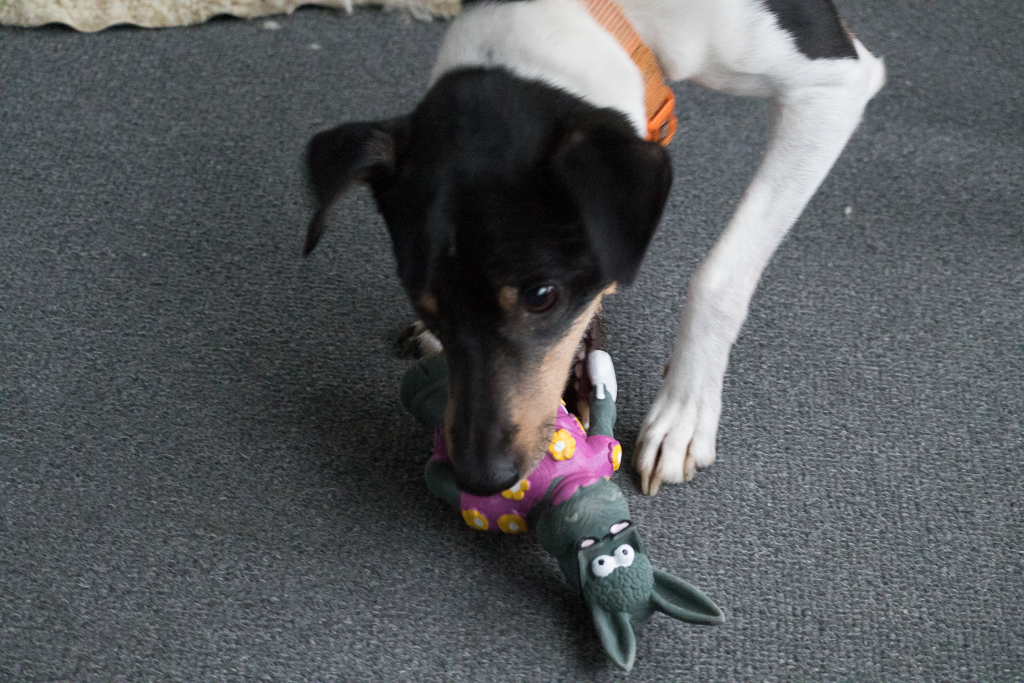Dog: (292, 0, 891, 506)
Humanoid: (374, 311, 731, 679)
